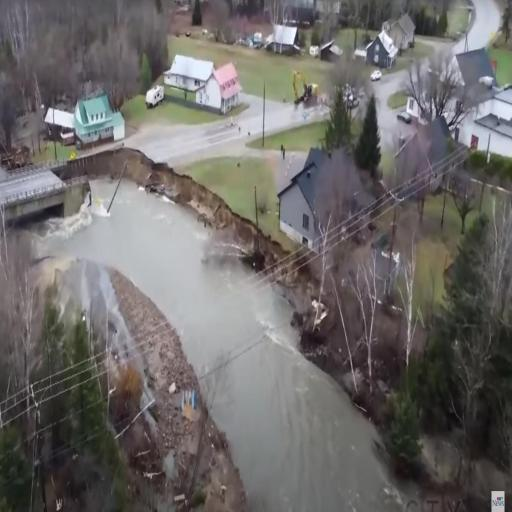flood: (35, 178, 415, 511)
house: (276, 141, 366, 263), (393, 116, 457, 180), (74, 92, 126, 148), (194, 60, 242, 119), (443, 46, 497, 95), (164, 51, 215, 102), (366, 28, 397, 70), (267, 22, 300, 57), (391, 13, 416, 42)
